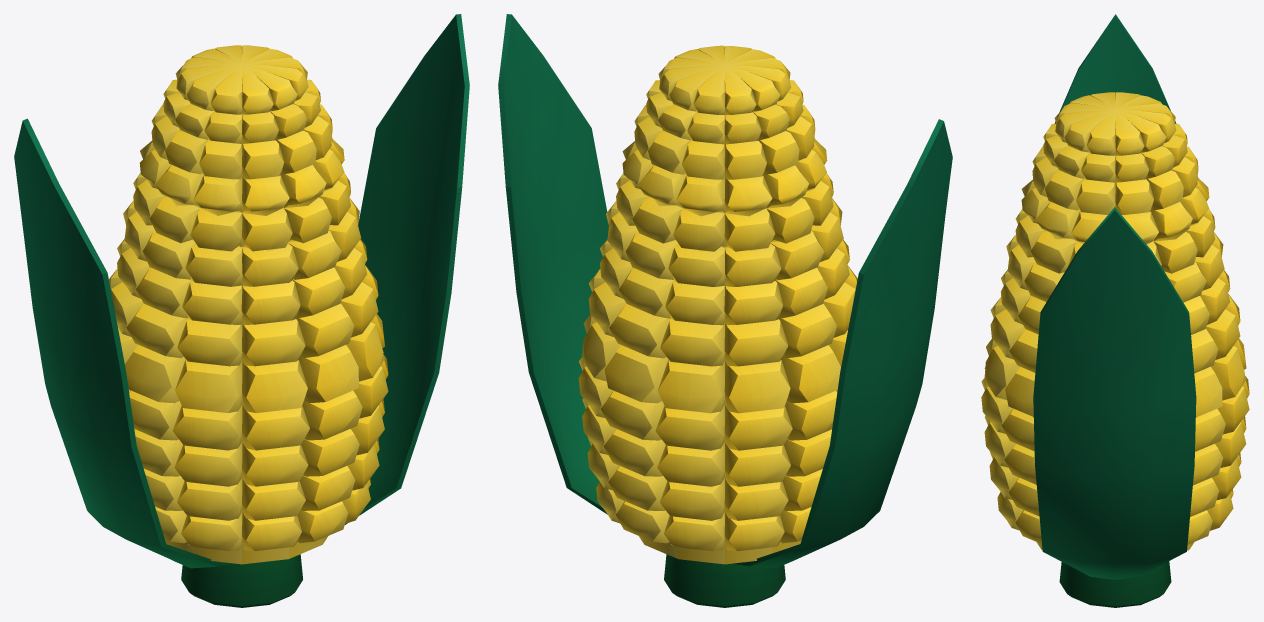
Rendered from Corn.fbx.
The picture shows the model from 3 angles, left to right: view 1: azimuth 30°, elevation 25°; view 2: azimuth 150°, elevation 25°; view 3: azimuth 270°, elevation 25°; orthographic projection. The views are drawn at different scales.
Visible parts, largest first — view 1: Corn; view 2: Corn; view 3: Corn.
Boxes of the visible parts, left/top/right/bottom form: Corn: left=14, top=14, right=469, bottom=607; Corn: left=498, top=14, right=952, bottom=607; Corn: left=981, top=14, right=1249, bottom=607.
Size of the model in its own units: 2.08 by 2.36 by 1.2.
